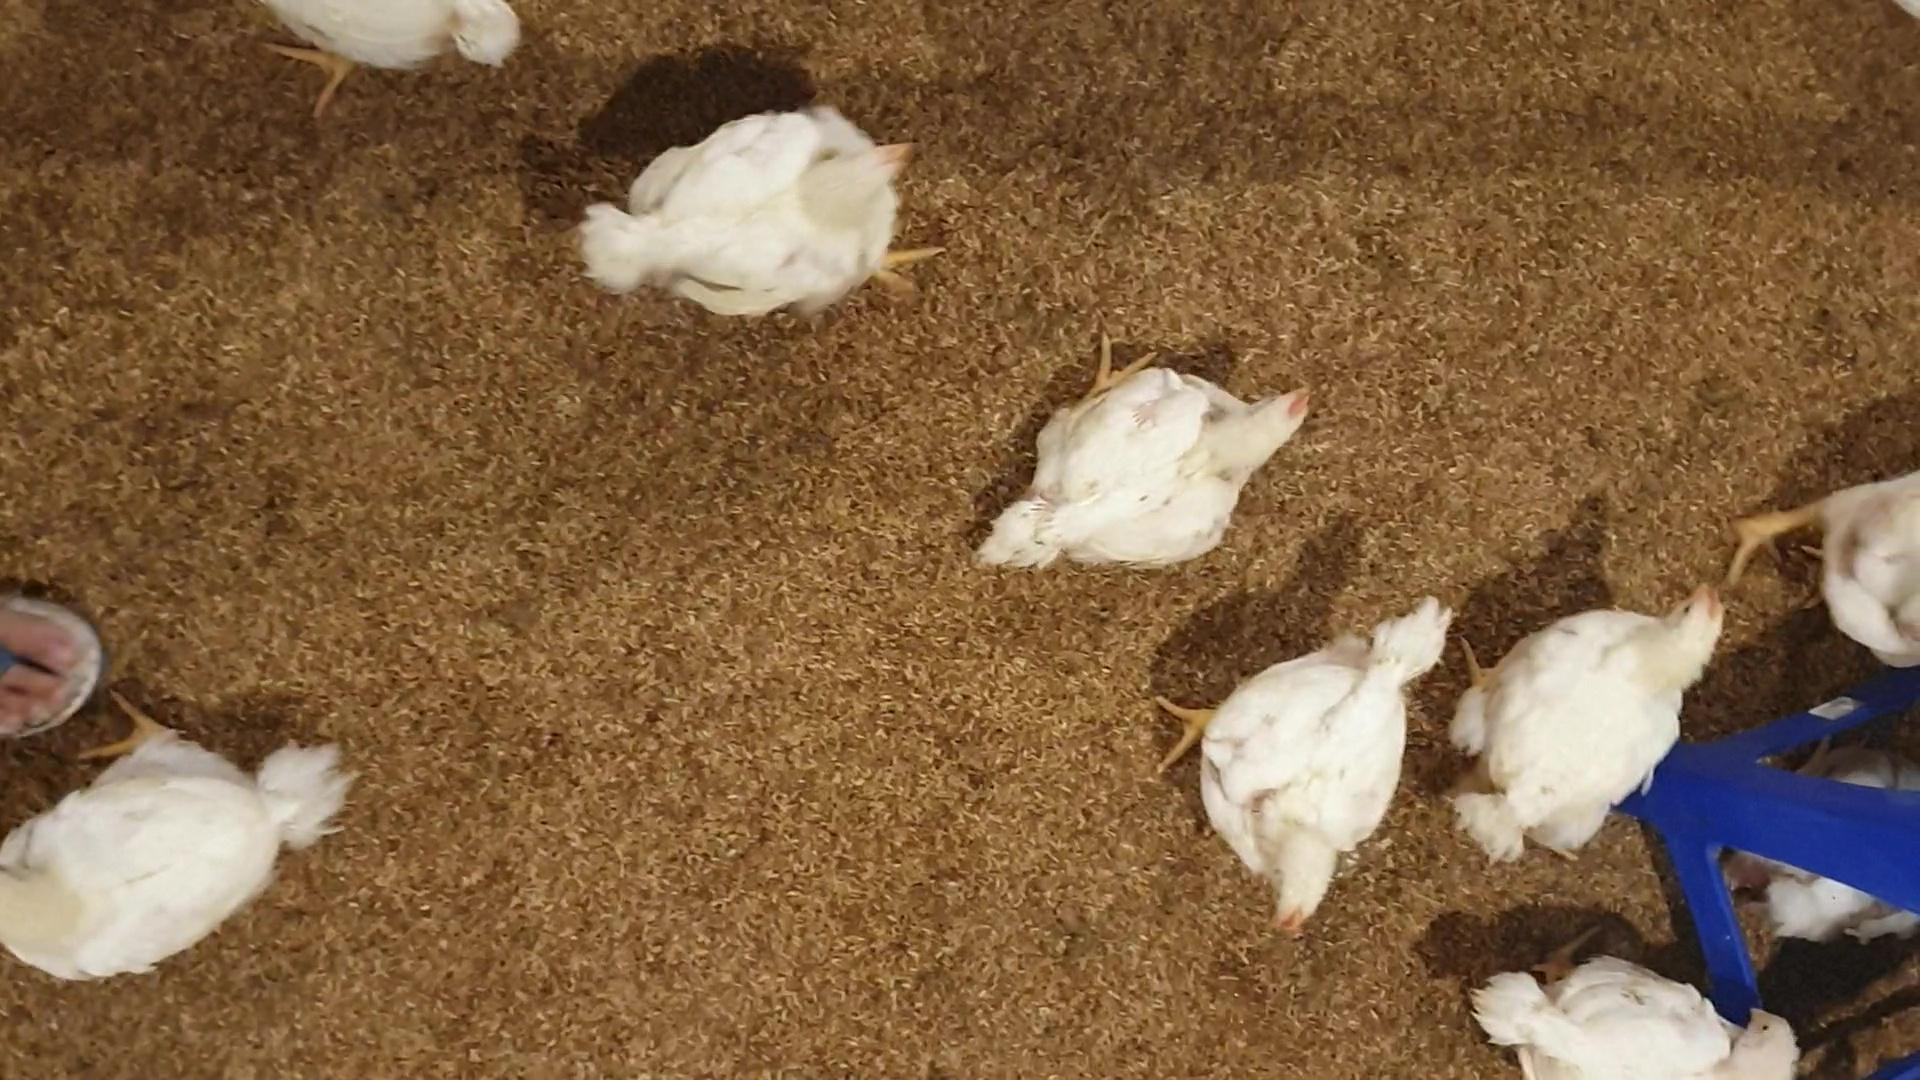Pollos: (0, 696, 349, 986), (1180, 597, 1464, 940), (579, 84, 949, 330), (959, 363, 1323, 584), (1476, 582, 1725, 824)
